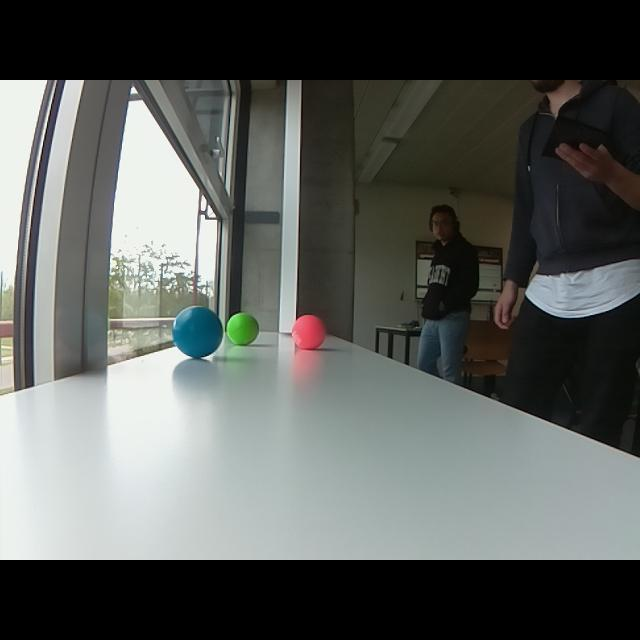ball: (170, 304, 224, 362), (292, 310, 328, 354), (224, 308, 260, 349)
